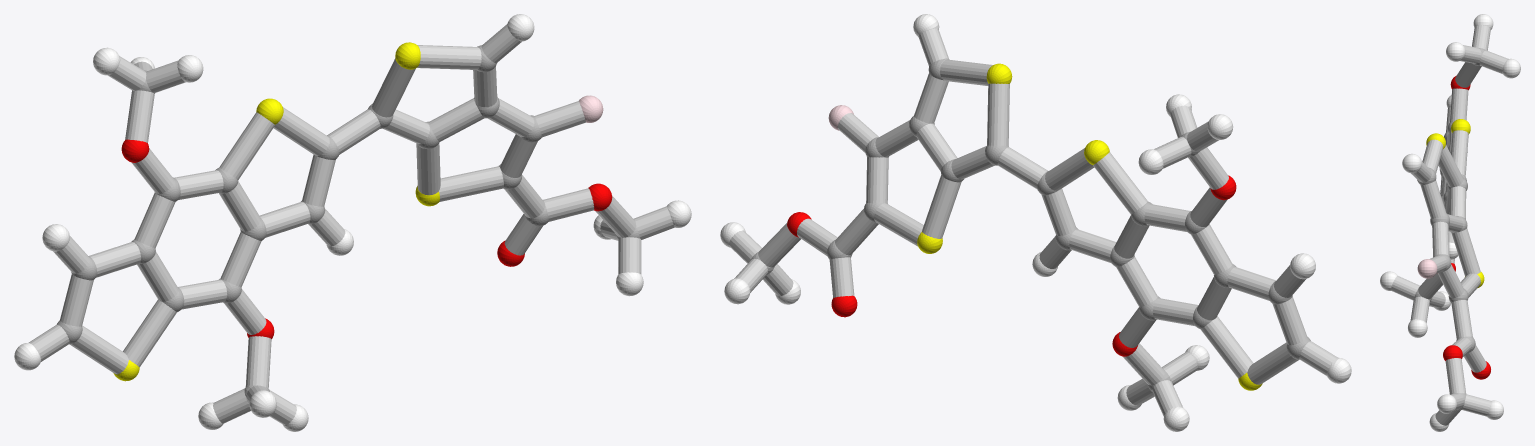
The model's file is Dimethoxy_Benzodithiophene_Phi_20_Theta_200_Methylcarbonyl_3_Fluoro_Thienothiophene.glb.
The picture shows the model from 3 angles, left to right: view 1: azimuth 30°, elevation 25°; view 2: azimuth 150°, elevation 25°; view 3: azimuth 270°, elevation 25°; orthographic projection. The views are drawn at different scales.
Parts seen in each view (by area): view 1: grp15205, grp8689, grp1, grp7241, grp13395; view 2: grp15205, grp8689, grp1, grp7241, grp13395; view 3: grp15205, grp8689, grp1, grp13395, grp7241, grp14843.
Boxes of the visible parts, x1,y1,x2,y2 form: grp15205: (29, 24, 674, 424); grp8689: (14, 14, 691, 431); grp1: (57, 45, 640, 396); grp7241: (113, 42, 439, 381); grp13395: (121, 139, 612, 338); grp15205: (729, 28, 1337, 416); grp8689: (720, 14, 1351, 431); grp1: (751, 58, 1310, 391); grp7241: (917, 63, 1262, 390); grp13395: (787, 175, 1236, 356); grp15205: (1391, 25, 1508, 425); grp8689: (1380, 14, 1520, 431); grp1: (1414, 48, 1485, 410); grp13395: (1443, 75, 1490, 379); grp7241: (1426, 119, 1484, 288); grp14843: (1417, 259, 1437, 278).
Size of the model in its own units: 16.76 by 9.12 by 4.27.
